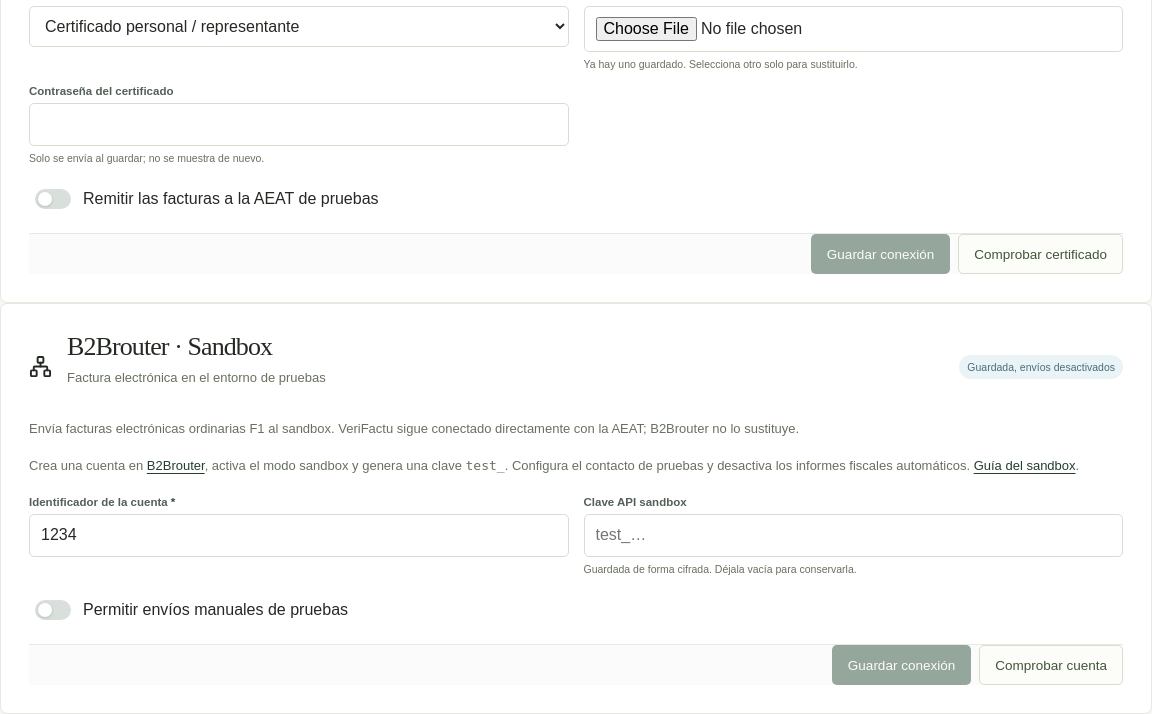
Test: only checks the stored configuration once pending changes are saved
(page scrolled)
Check: the button "Comprobar cuenta" is enabled, box [979,645,1123,685]
Replace the text in the field labelled "Identificador de la cuenta *" with "999". click: (299, 536)
box: [29,514,568,557]
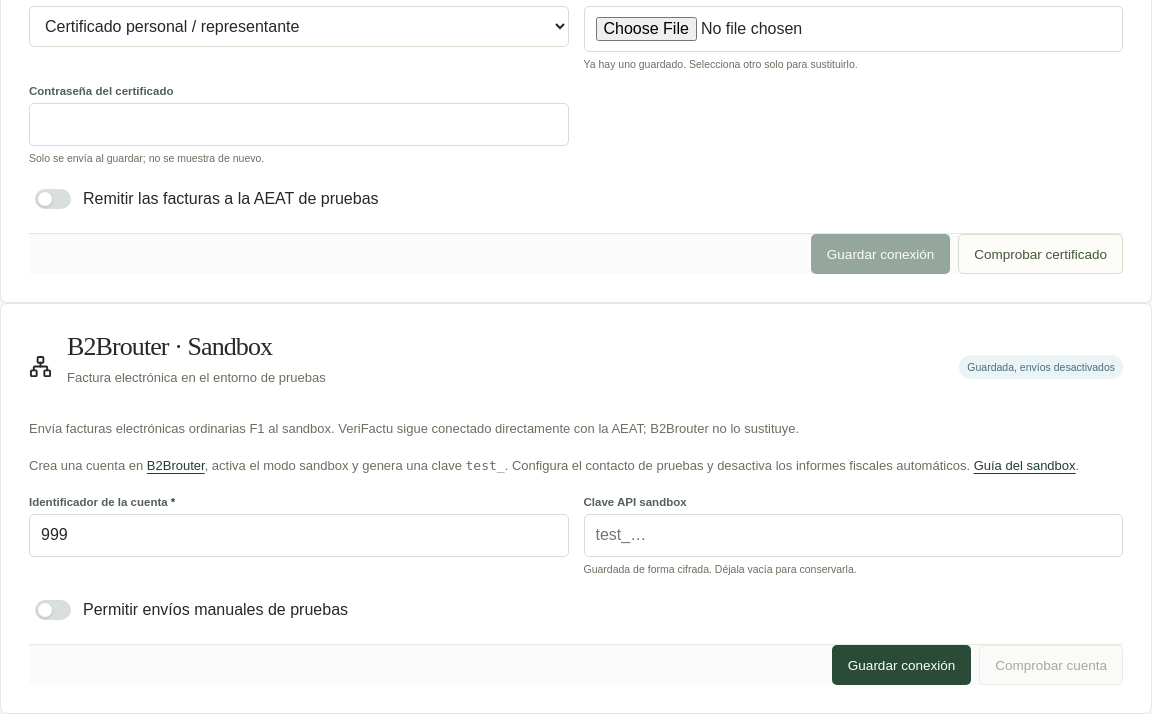
Check: the button "Comprobar cuenta" is disabled, box [979,645,1123,685]
